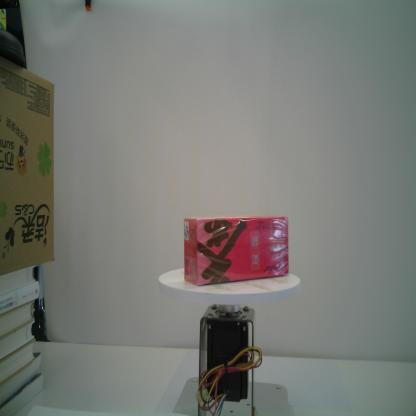Instant Drink: (183, 215, 290, 286)
